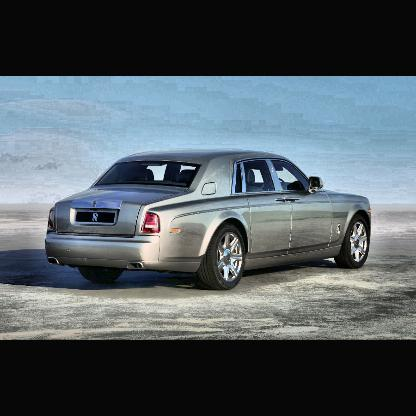Rolls-Royce Phantom Sedan 2012: (44, 147, 374, 294)
